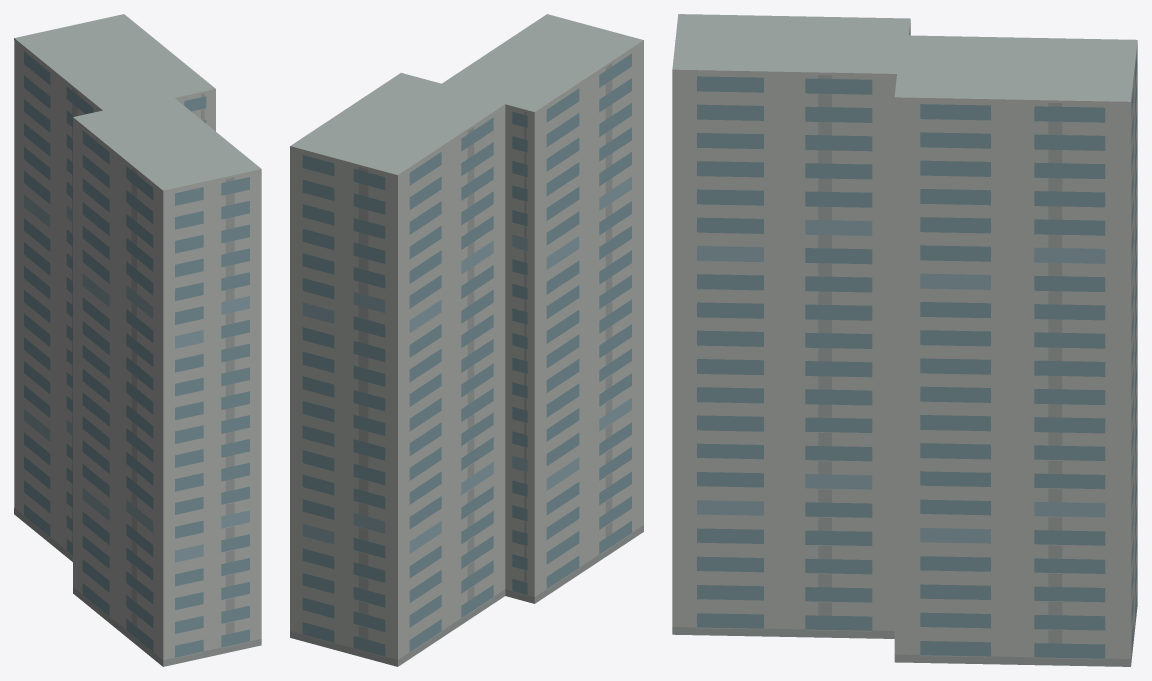
Rendered from residential-51d71deb-fbc4-4a68-8d87-0146602fa737.glb.
3 renders of one model, left to right at view 1: azimuth 30°, elevation 25°; view 2: azimuth 150°, elevation 25°; view 3: azimuth 270°, elevation 25°, orthographic. The views are drawn at different scales.
Parts seen in each view (by area): view 1: residential-51d71deb-fbc4-4a68-8d87-0146602fa737.tmp; view 2: residential-51d71deb-fbc4-4a68-8d87-0146602fa737.tmp; view 3: residential-51d71deb-fbc4-4a68-8d87-0146602fa737.tmp.
Part boxes in pixels (x1=…): residential-51d71deb-fbc4-4a68-8d87-0146602fa737.tmp: x1=14, y1=14, x2=261, y2=666; residential-51d71deb-fbc4-4a68-8d87-0146602fa737.tmp: x1=290, y1=14, x2=643, y2=666; residential-51d71deb-fbc4-4a68-8d87-0146602fa737.tmp: x1=672, y1=14, x2=1137, y2=666.
Size of the model in its own units: 18.02 by 54 by 40.31.
